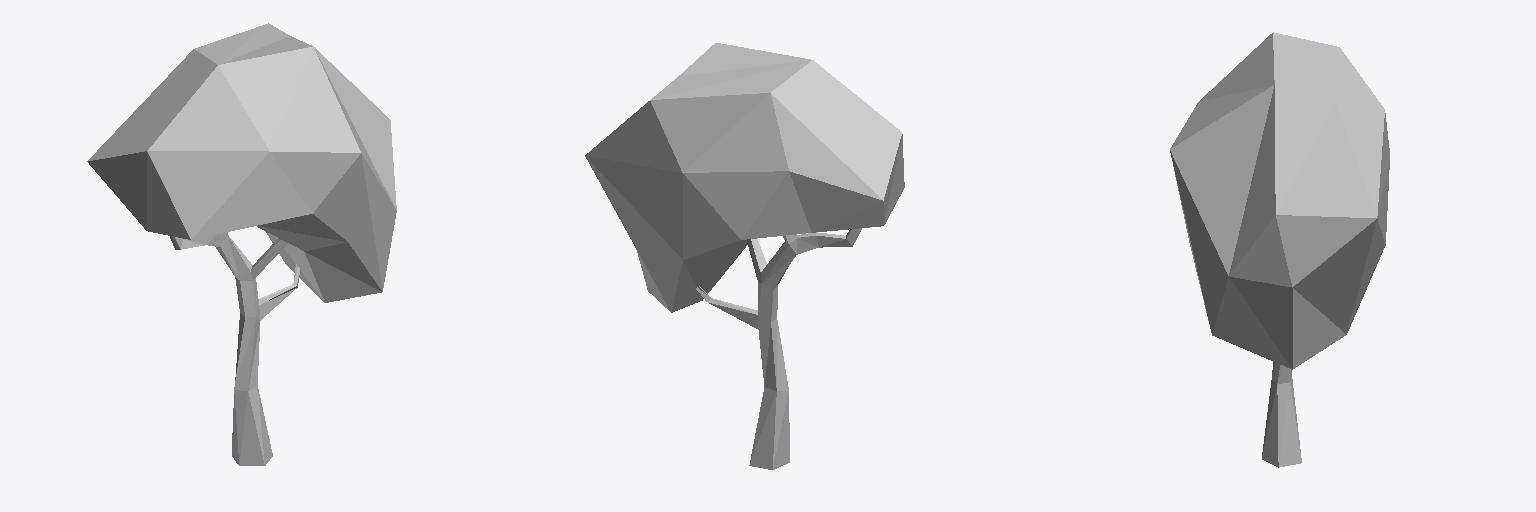
File: Forest_C_Tree_14.obj
3 views of the same model, side by side, from view 1: azimuth 30°, elevation 25°; view 2: azimuth 150°, elevation 25°; view 3: azimuth 270°, elevation 25° (orthographic).
Parts seen in each view (by area): view 1: Forest_C_Tree_14; view 2: Forest_C_Tree_14; view 3: Forest_C_Tree_14.
Boxes of the visible parts, box(x1,y1,x2,y2) form: Forest_C_Tree_14: box(87, 23, 396, 465); Forest_C_Tree_14: box(585, 43, 904, 469); Forest_C_Tree_14: box(1170, 32, 1389, 467).
Bounding box in the file's own units: 300 × 410 × 201.